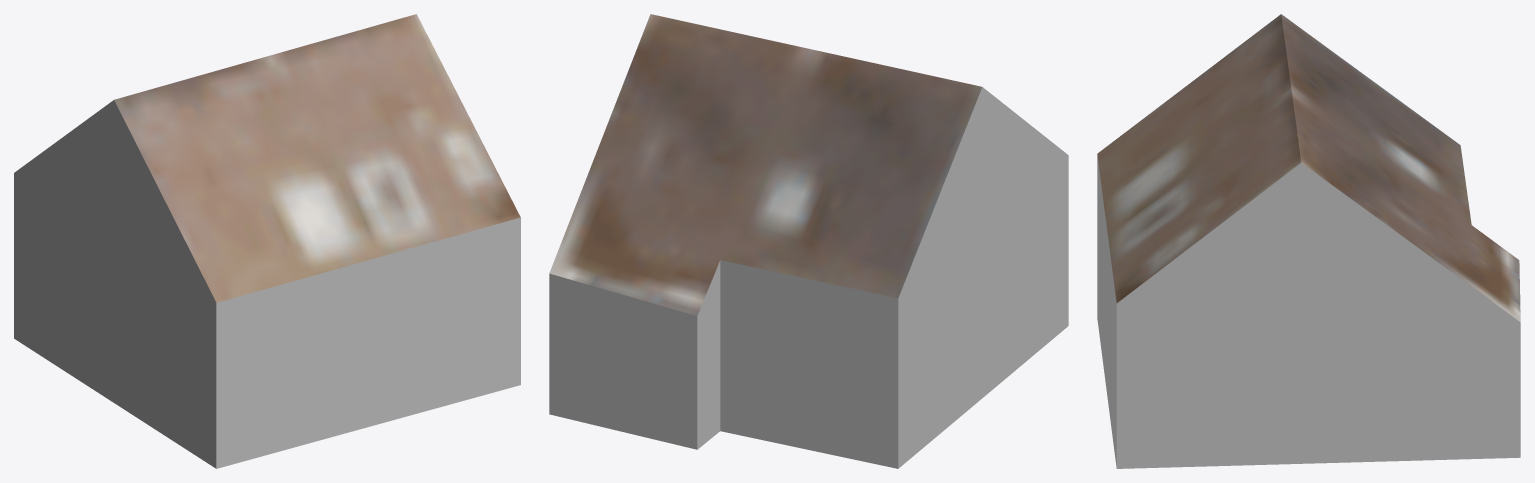
Rendered from DEBW_0010007Txa4.gltf.
3 renders of one model, left to right at view 1: azimuth 30°, elevation 25°; view 2: azimuth 150°, elevation 25°; view 3: azimuth 270°, elevation 25°, orthographic. The views are drawn at different scales.
Visible parts, largest first — view 1: Z_UP; view 2: Z_UP; view 3: Z_UP.
Part boxes in pixels (bbox=[...]): Z_UP: bbox=[14, 14, 520, 468]; Z_UP: bbox=[549, 14, 1068, 468]; Z_UP: bbox=[1097, 14, 1520, 468].
Size of the model in its own units: 8.57 by 7.52 by 9.58.
2 materials, 1 textured.
